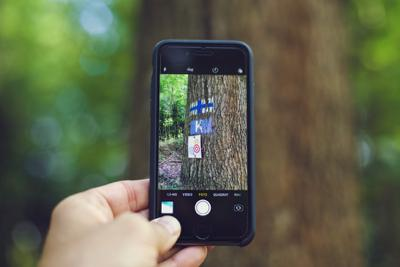cell-phone: (148, 35, 258, 249)
